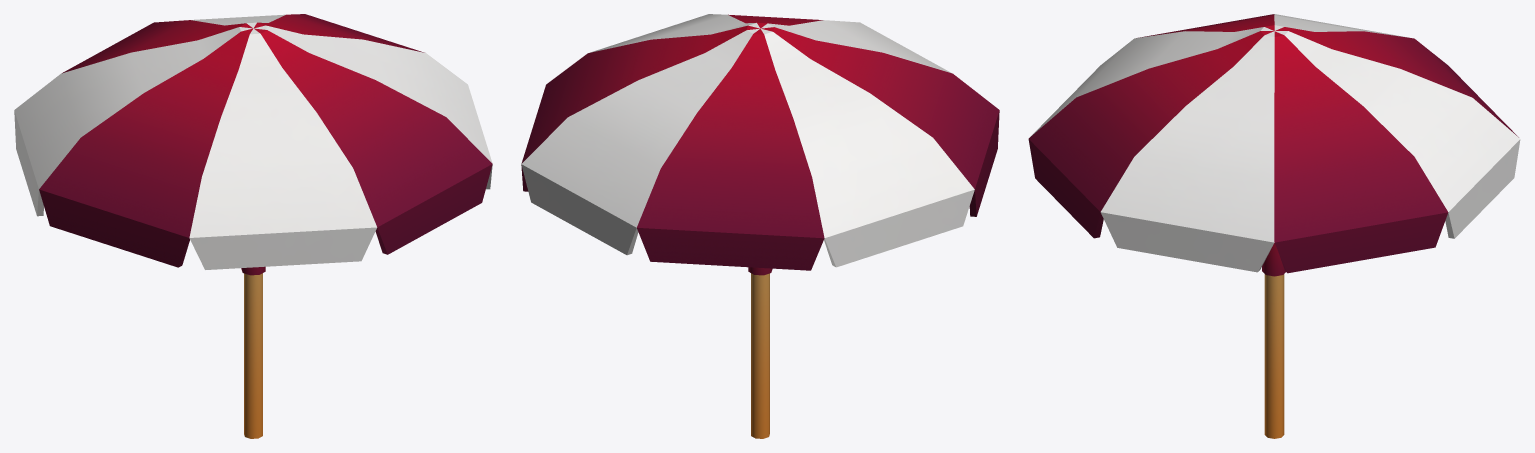
File: ENV_Umbrella2.fbx
3 views of the same model, side by side, from view 1: azimuth 30°, elevation 25°; view 2: azimuth 150°, elevation 25°; view 3: azimuth 270°, elevation 25° (orthographic).
Parts seen in each view (by area): view 1: ENV_Umbrella_2; view 2: ENV_Umbrella_2; view 3: ENV_Umbrella_2.
Part boxes in pixels (bbox=[...]): ENV_Umbrella_2: bbox=[14, 14, 492, 438]; ENV_Umbrella_2: bbox=[521, 14, 999, 438]; ENV_Umbrella_2: bbox=[1028, 14, 1520, 438].
Bounding box in the file's own units: 360 × 326 × 360.
